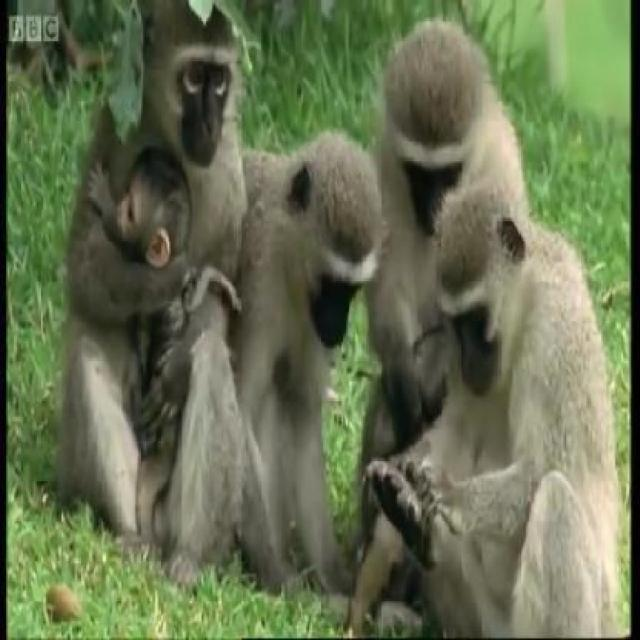Monkey: (83, 0, 259, 634), (425, 154, 624, 638), (363, 4, 517, 598), (246, 110, 363, 608), (111, 134, 206, 423)
